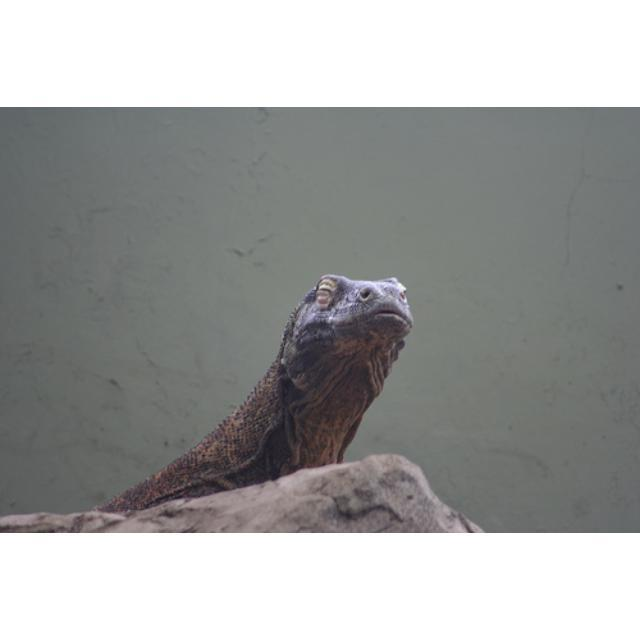KomodoDragon: (89, 272, 412, 513)
